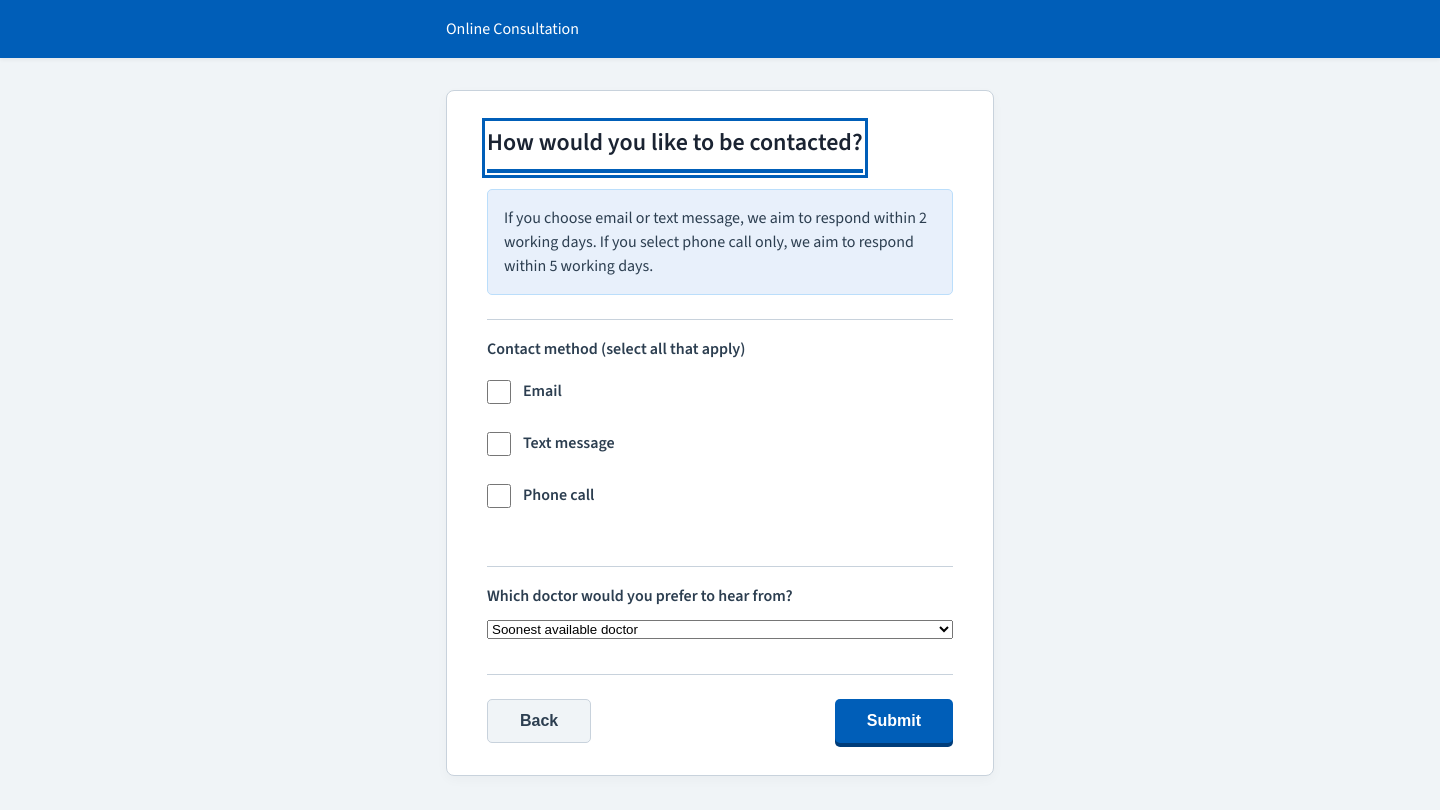
Test case: ContactScreen › phone field appears when phone is selected
Click the checkbox labelled "Phone call". click: (499, 496)
box: [487, 484, 511, 508]
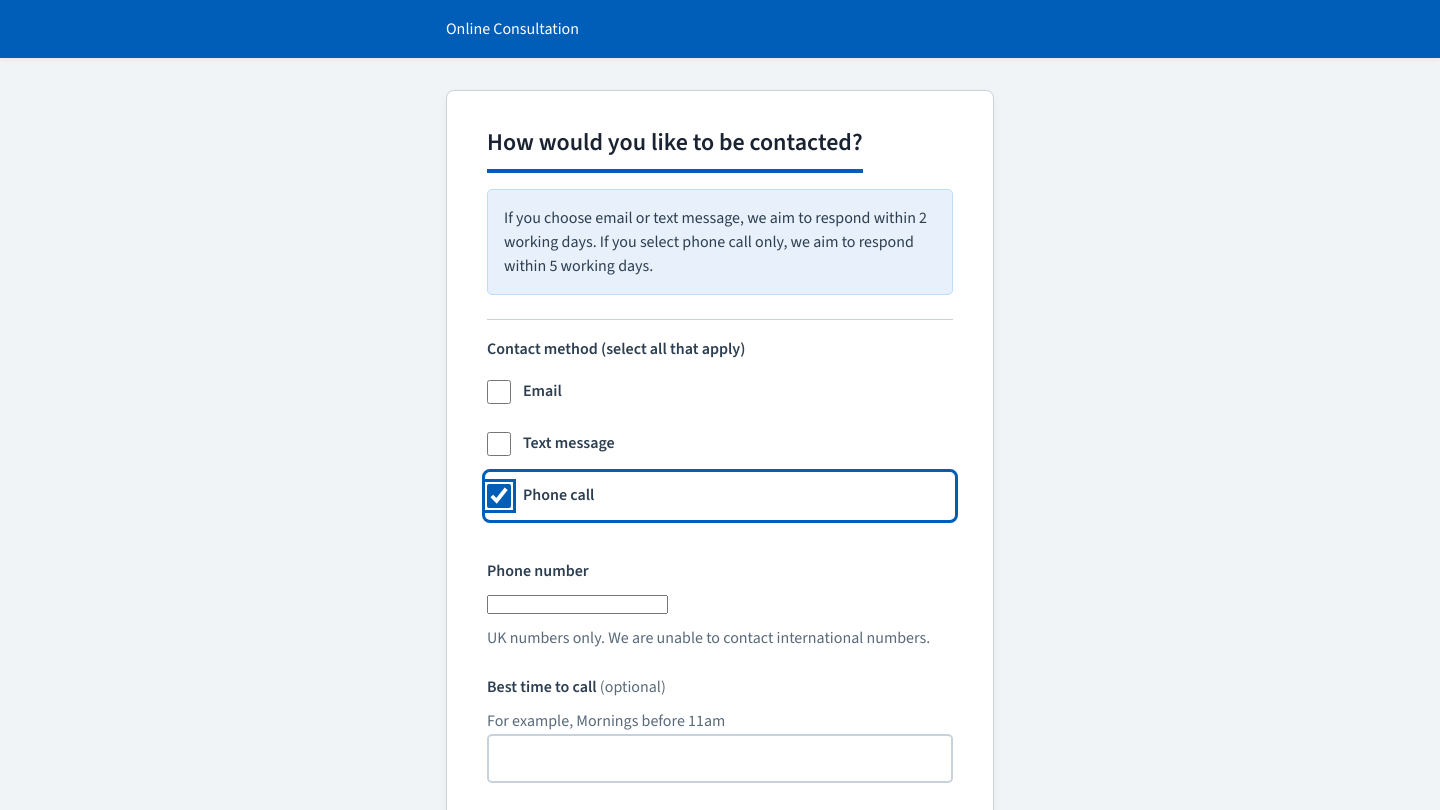
Expected: the field with id "contact-phone" is shown, [487, 595, 668, 614]
